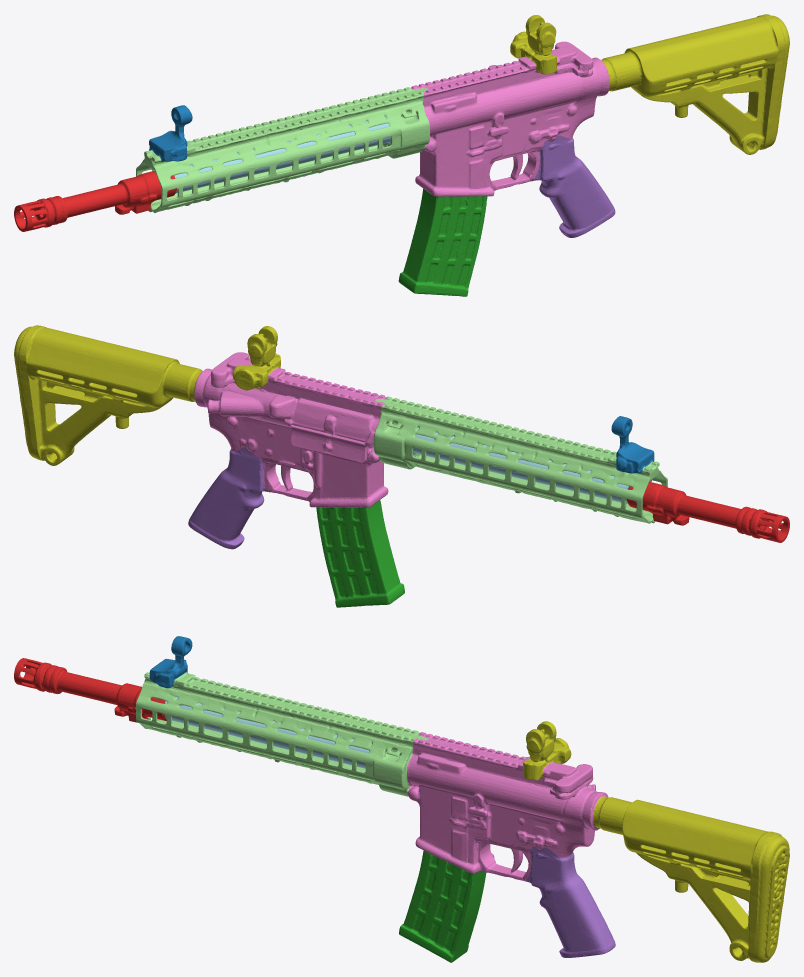
File: modern-ar15.glb
3 views of the same model, one above another, from view 1: azimuth 30°, elevation 25°; view 2: azimuth 150°, elevation 25°; view 3: azimuth 330°, elevation 25° (orthographic).
Parts seen in each view (by area): view 1: model_part6, model_part1, model_part9, model_part5, model_part8, model_part0, model_part7, model_part4, model_part2; view 2: model_part6, model_part1, model_part9, model_part5, model_part8, model_part0, model_part7, model_part4, model_part2; view 3: model_part6, model_part9, model_part1, model_part5, model_part8, model_part0, model_part7, model_part4, model_part2.
Part boxes in pixels (left/top/right/bottom): model_part6: left=411, top=41, right=609, bottom=196; model_part1: left=136, top=87, right=430, bottom=212; model_part9: left=601, top=14, right=789, bottom=154; model_part5: left=398, top=188, right=487, bottom=296; model_part8: left=532, top=136, right=615, bottom=237; model_part0: left=14, top=171, right=176, bottom=231; model_part7: left=510, top=15, right=556, bottom=74; model_part4: left=174, top=116, right=390, bottom=193; model_part2: left=149, top=105, right=192, bottom=161; model_part6: left=194, top=352, right=388, bottom=507; model_part1: left=374, top=396, right=667, bottom=523; model_part9: left=14, top=325, right=202, bottom=465; model_part5: left=316, top=500, right=404, bottom=607; model_part8: left=188, top=447, right=270, bottom=549; model_part0: left=627, top=482, right=789, bottom=542; model_part7: left=232, top=326, right=280, bottom=390; model_part4: left=413, top=427, right=629, bottom=503; model_part2: left=611, top=416, right=654, bottom=473; model_part6: left=407, top=732, right=608, bottom=881; model_part9: left=593, top=796, right=789, bottom=962; model_part1: left=136, top=672, right=428, bottom=796; model_part5: left=399, top=851, right=486, bottom=962; model_part8: left=526, top=846, right=615, bottom=957; model_part0: left=14, top=658, right=166, bottom=722; model_part7: left=523, top=721, right=571, bottom=780; model_part4: left=164, top=696, right=371, bottom=768; model_part2: left=149, top=636, right=192, bottom=688.
Size of the model in its own units: 0.12 by 0.0379 by 0.0101.
